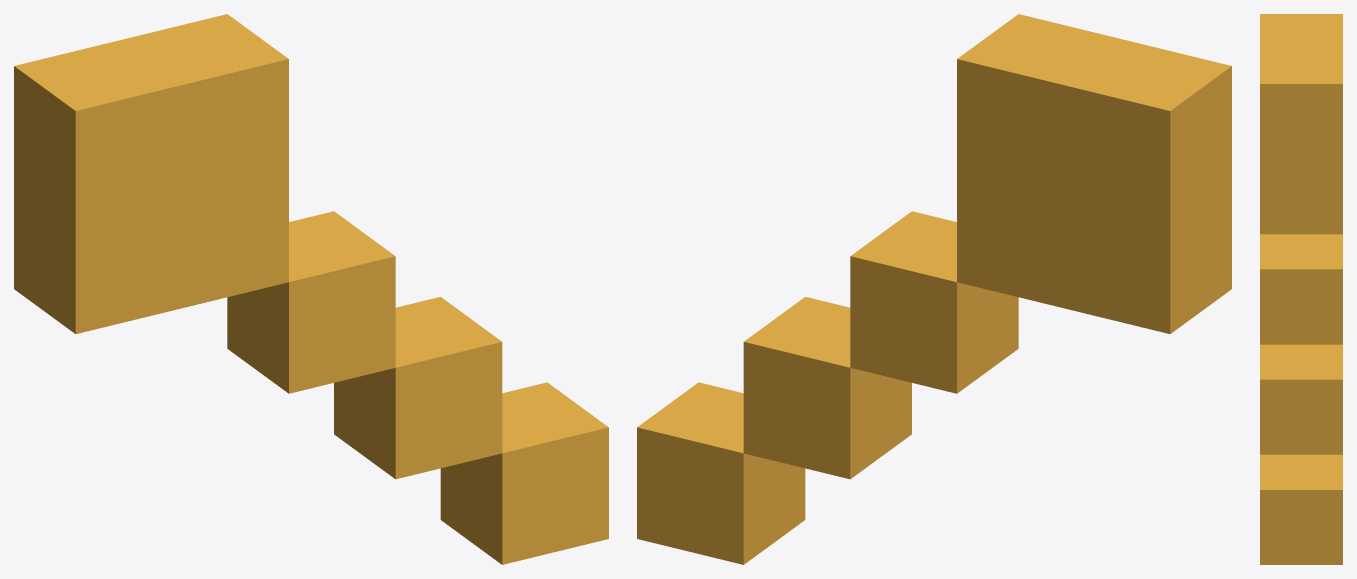
The model's file is Dart-Orange.vox.obj.
3 views of the same model, side by side, from view 1: azimuth 30°, elevation 25°; view 2: azimuth 150°, elevation 25°; view 3: azimuth 270°, elevation 25° (orthographic). The views are drawn at different scales.
Bounding box in the file's own units: 0.5 × 0.5 × 0.1.
1 material, 1 textured.
